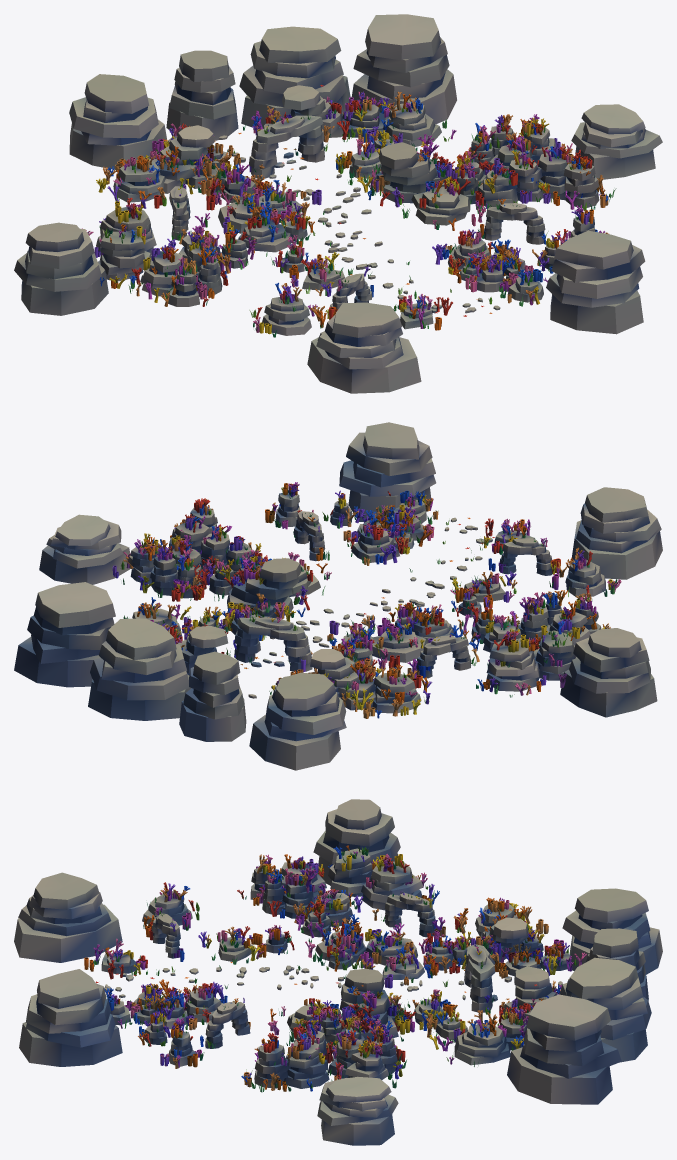
The model's file is coral.glb.
The picture shows the model from 3 angles, top to bottom: view 1: azimuth 30°, elevation 25°; view 2: azimuth 150°, elevation 25°; view 3: azimuth 270°, elevation 25°; orthographic projection. The views are drawn at different scales.
Parts seen in each view (by area): view 1: rock_5_6, rock_4_6, rock_5_3, rock_4_3, rock_5_5, rock_4_5, coral_4_5, rock_3_4, rock_5_4, rock_3_5, rock_6_4, rock_4_4 (+13 smaller); view 2: rock_5_6, rock_4_6, rock_3_5, rock_5_3, rock_4_3, rock_6_5, rock_4_5, rock_5_5, rock_6_6, coral_4_5, coral_5_5, rock_5_4 (+12 smaller); view 3: rock_6_6, rock_5_6, rock_5_3, rock_4_3, rock_5_5, rock_3_5, rock_6_5, rock_4_6, rock_4_5, coral_4_5, rock_4_4, coral_5_5 (+13 smaller).
Boxes of the visible parts, left/top/right/bottom form: rock_5_6: left=177, top=26, right=414, bottom=140; rock_4_6: left=69, top=54, right=238, bottom=179; rock_5_3: left=462, top=230, right=645, bottom=334; rock_4_3: left=285, top=297, right=465, bottom=393; rock_5_5: left=258, top=102, right=493, bottom=223; rock_4_5: left=113, top=129, right=343, bottom=253; coral_4_5: left=96, top=127, right=341, bottom=248; rock_3_4: left=30, top=247, right=269, bottom=326; rock_5_4: left=357, top=160, right=595, bottom=280; rock_3_5: left=14, top=207, right=156, bottom=312; rock_6_4: left=512, top=121, right=662, bottom=226; rock_4_4: left=179, top=225, right=413, bottom=335; rock_5_6: left=67, top=590, right=228, bottom=741; rock_4_6: left=203, top=653, right=394, bottom=770; rock_3_5: left=486, top=628, right=657, bottom=717; rock_5_3: left=338, top=422, right=477, bottom=535; rock_4_3: left=476, top=487, right=662, bottom=579; rock_6_5: left=39, top=514, right=201, bottom=595; rock_4_5: left=278, top=613, right=515, bottom=712; rock_5_5: left=132, top=558, right=359, bottom=667; rock_6_6: left=14, top=582, right=111, bottom=687; coral_4_5: left=288, top=602, right=506, bottom=707; coral_5_5: left=137, top=550, right=335, bottom=668; rock_5_4: left=209, top=493, right=424, bottom=605; rock_6_6: left=507, top=999, right=621, bottom=1104; rock_5_6: left=505, top=931, right=651, bottom=1062; rock_5_3: left=19, top=969, right=159, bottom=1066; rock_4_3: left=14, top=872, right=155, bottom=981; rock_5_5: left=332, top=946, right=520, bottom=1065; rock_3_5: left=317, top=799, right=423, bottom=910; rock_6_5: left=320, top=1036, right=493, bottom=1145; rock_4_6: left=509, top=888, right=662, bottom=985; rock_4_5: left=323, top=892, right=520, bottom=987; coral_4_5: left=333, top=890, right=513, bottom=985; rock_4_4: left=144, top=882, right=335, bottom=985; coral_5_5: left=333, top=946, right=513, bottom=1062.
Size of the model in its own units: 180 by 20.81 by 170.
